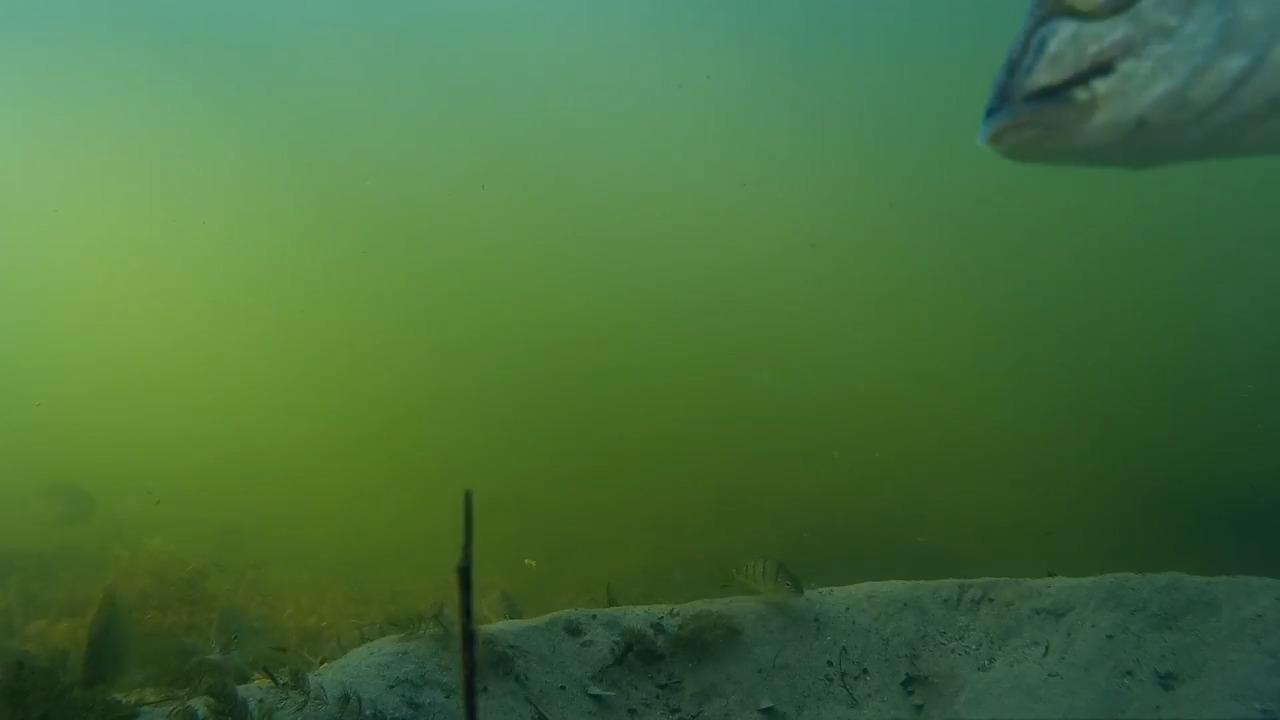Tilapia: (969, 4, 1279, 178), (69, 568, 161, 696), (710, 546, 821, 634), (454, 578, 543, 638)
